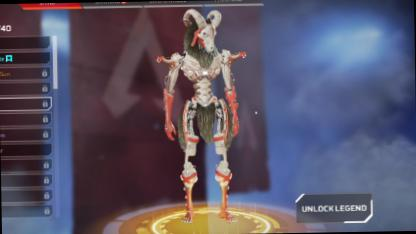Target: (166, 7, 250, 198)
